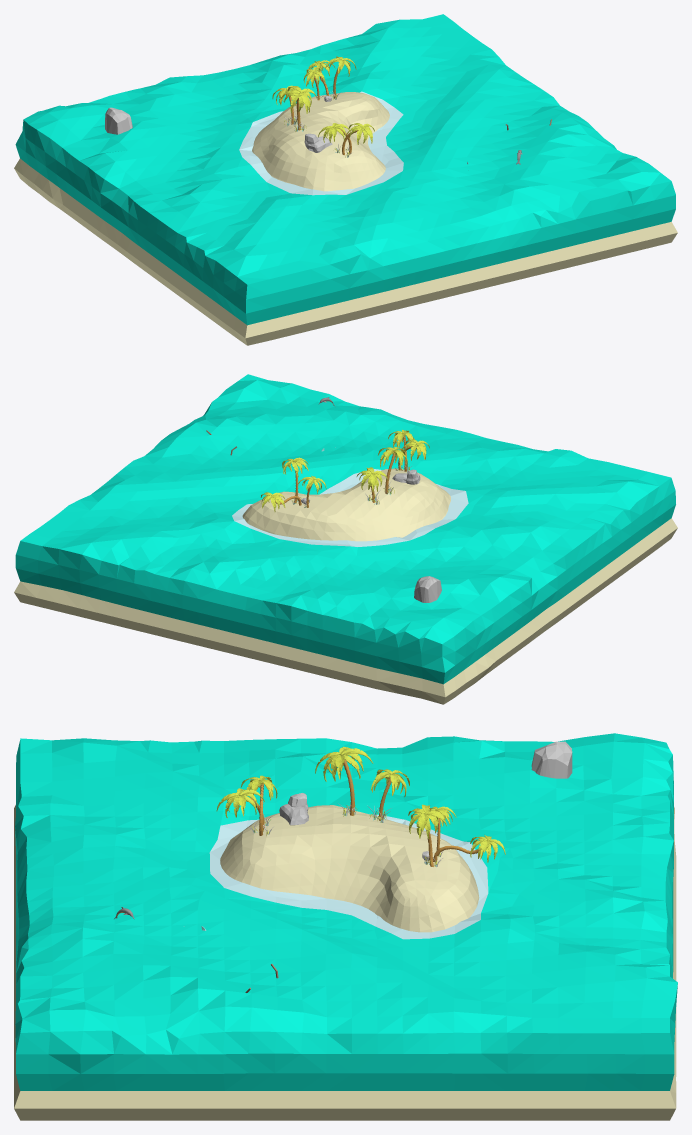
The model's file is Low_Poly_Island_5942986e.glb.
3 views of the same model, one above another, from view 1: azimuth 30°, elevation 25°; view 2: azimuth 150°, elevation 25°; view 3: azimuth 270°, elevation 25° (orthographic). The views are drawn at different scales.
Visible parts, largest first — view 1: BE1-material, YW1-material, WE2-material, GN1-material (×2), WE1-material; view 2: BE1-material, YW1-material, WE2-material, GN1-material (×2), WE1-material; view 3: BE1-material, YW1-material, WE2-material, GN1-material (×3), WE1-material (×2).
Boxes of the visible parts, x1,y1,x2,y2 form: BE1-material: [15, 14, 675, 325]; YW1-material: [14, 92, 677, 345]; WE2-material: [239, 91, 403, 195]; GN1-material (×2): [272, 56, 356, 113]; WE1-material: [105, 107, 132, 134]; BE1-material: [15, 374, 675, 684]; YW1-material: [14, 468, 677, 704]; WE2-material: [232, 469, 468, 546]; GN1-material (×2): [260, 447, 407, 511]; WE1-material: [414, 576, 441, 602]; BE1-material: [15, 733, 677, 1090]; YW1-material: [14, 805, 676, 1120]; WE2-material: [209, 814, 488, 939]; GN1-material (×3): [216, 746, 505, 862]; WE1-material (×2): [279, 741, 572, 825].
Bounding box in the file's own units: 376 × 110 × 348.
Materials: 10 (1 with a texture image).
